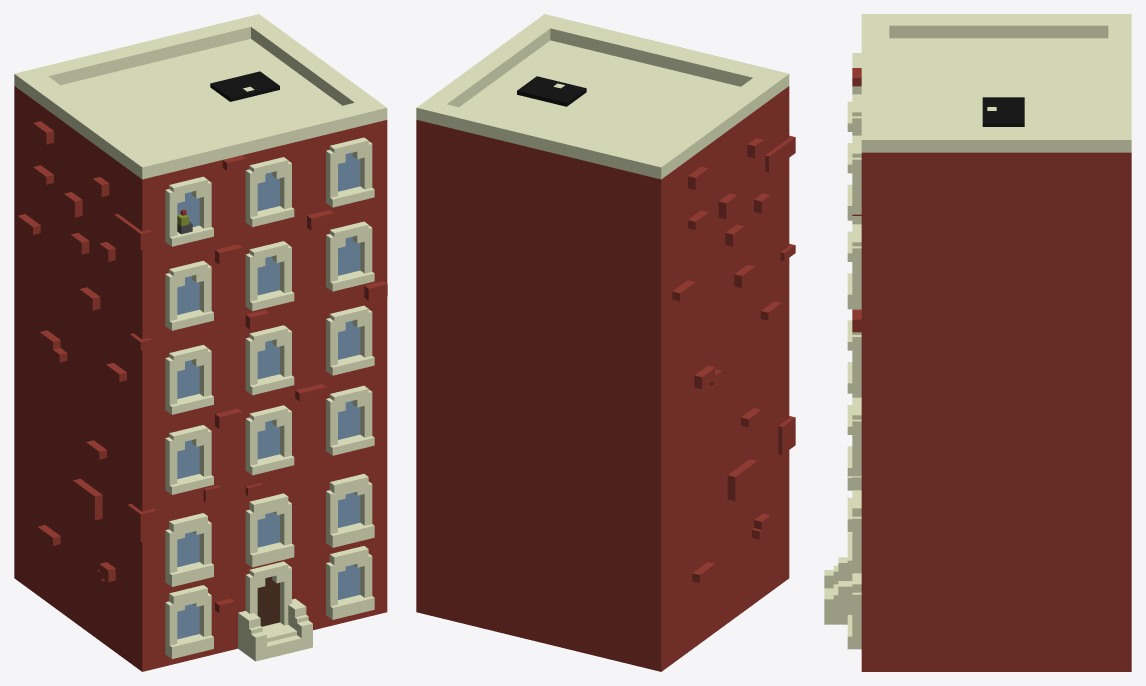
The model's file is map v1.0-28-house.obj.
3 views of the same model, side by side, from view 1: azimuth 30°, elevation 25°; view 2: azimuth 150°, elevation 25°; view 3: azimuth 270°, elevation 25° (orthographic). The views are drawn at different scales.
Parts seen in each view (by area): view 1: house; view 2: house; view 3: house.
Boxes of the visible parts, left/top/right/bottom form: house: left=14, top=14, right=387, bottom=671; house: left=416, top=14, right=795, bottom=671; house: left=824, top=14, right=1131, bottom=671.
Bounding box in the file's own units: 6.6 × 12.6 × 6.6.
1 material, 1 textured.
